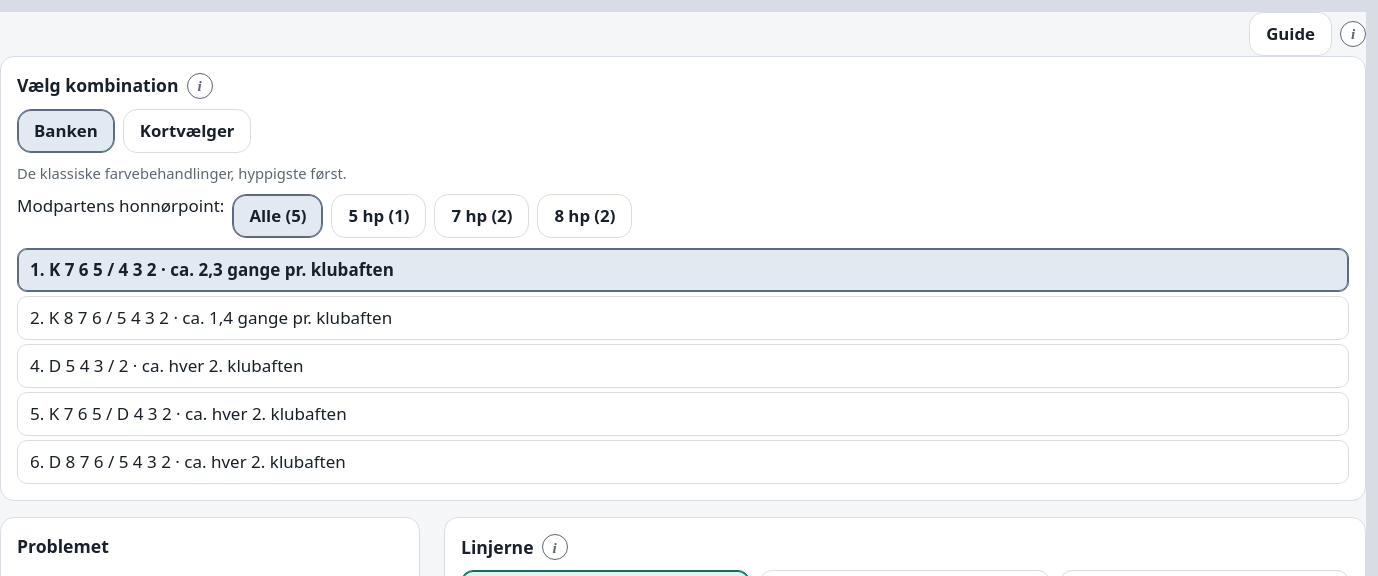
Scenario: Guiden i Analyse (SPEC-analyse-modul.md, trin 3) › guidens tabeller vises som tabeller, hver i sin egen rullekasse
Click the button "Guide".
click(1291, 34)  # box [1249,12,1332,56]
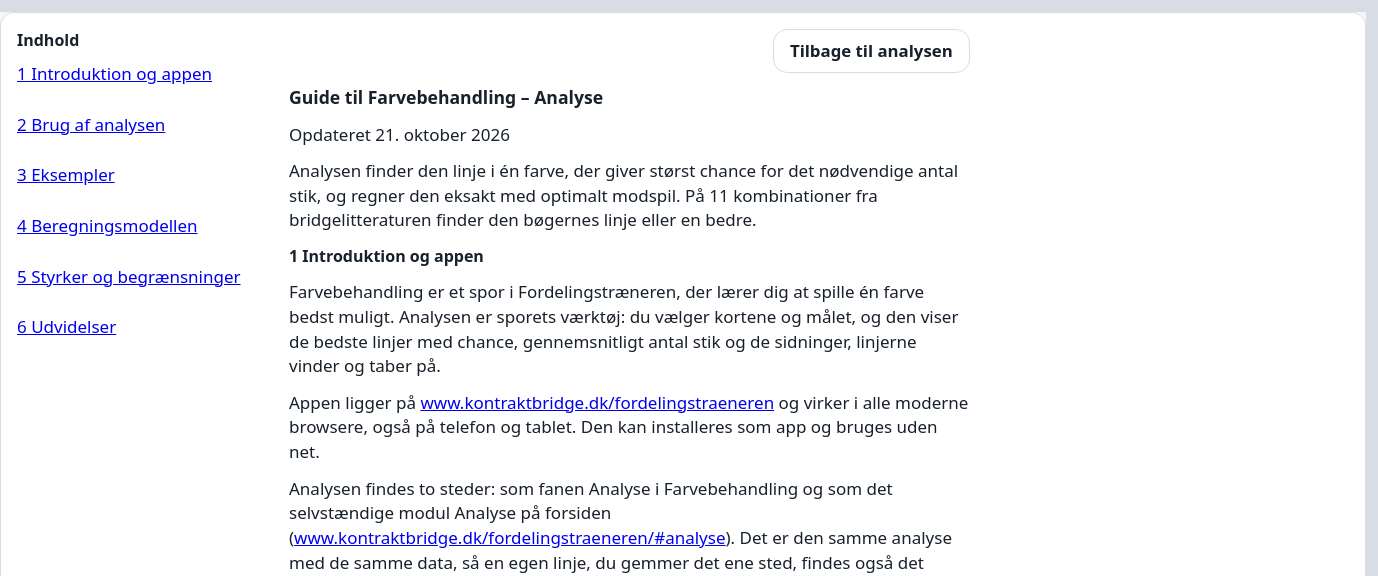
expect the heading "Guide til Farvebehandling – Analyse" is shown: met, box [289,85,603,109]
